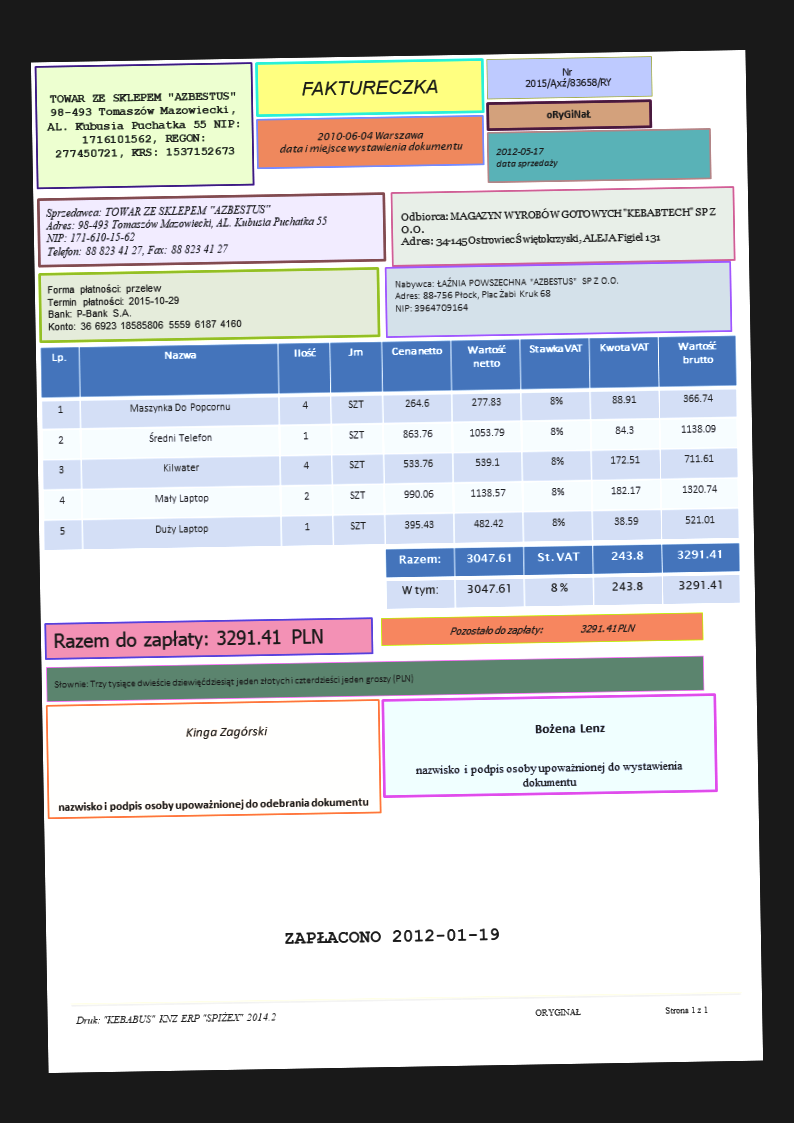Table: (39, 334, 740, 551), (384, 541, 741, 610)
TextBox: (44, 200, 329, 258), (398, 204, 717, 250), (44, 89, 241, 159), (46, 280, 244, 333), (391, 273, 621, 315), (415, 759, 684, 791), (53, 671, 415, 692), (53, 624, 325, 651), (55, 793, 368, 815), (277, 128, 465, 155), (283, 925, 501, 946), (74, 1009, 279, 1028), (448, 620, 638, 639), (299, 75, 440, 98), (533, 1003, 709, 1020), (523, 64, 614, 90), (494, 144, 558, 170), (183, 722, 269, 741), (533, 720, 608, 737), (545, 107, 593, 121)
